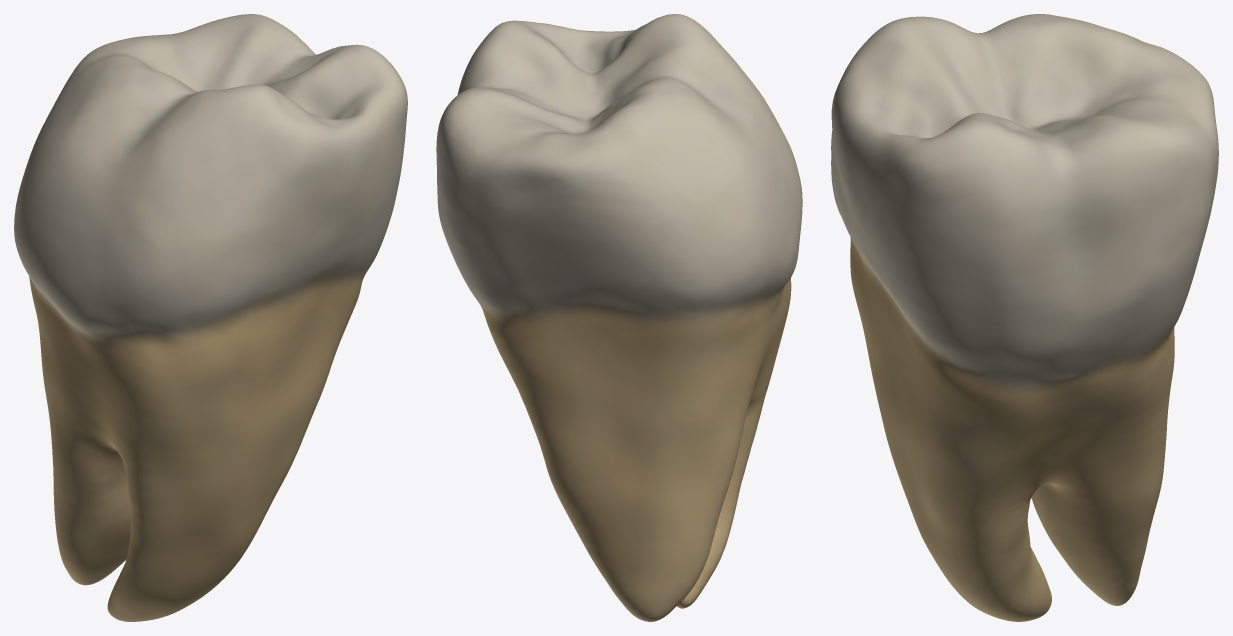
3 renders of one model, left to right at view 1: azimuth 30°, elevation 25°; view 2: azimuth 150°, elevation 25°; view 3: azimuth 270°, elevation 25°, orthographic. The views are drawn at different scales.
Visible parts, largest first — view 1: diente-48; view 2: diente-48; view 3: diente-48.
Boxes of the visible parts, box(x1,y1,x2,y2) form: diente-48: box(14, 14, 407, 621); diente-48: box(436, 14, 802, 621); diente-48: box(831, 14, 1218, 621).
Bounding box in the file's own units: 0.0114 × 0.018 × 0.0101.
Materials: 1 (1 with a texture image).
